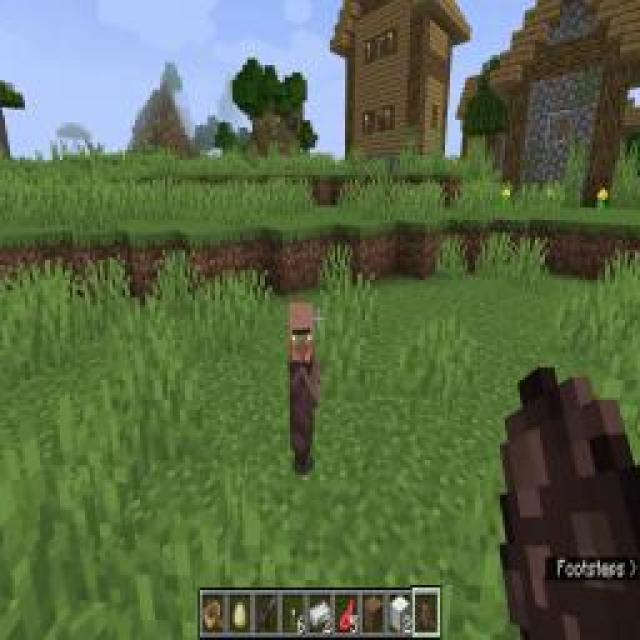Villager House: (284, 295, 326, 485)
